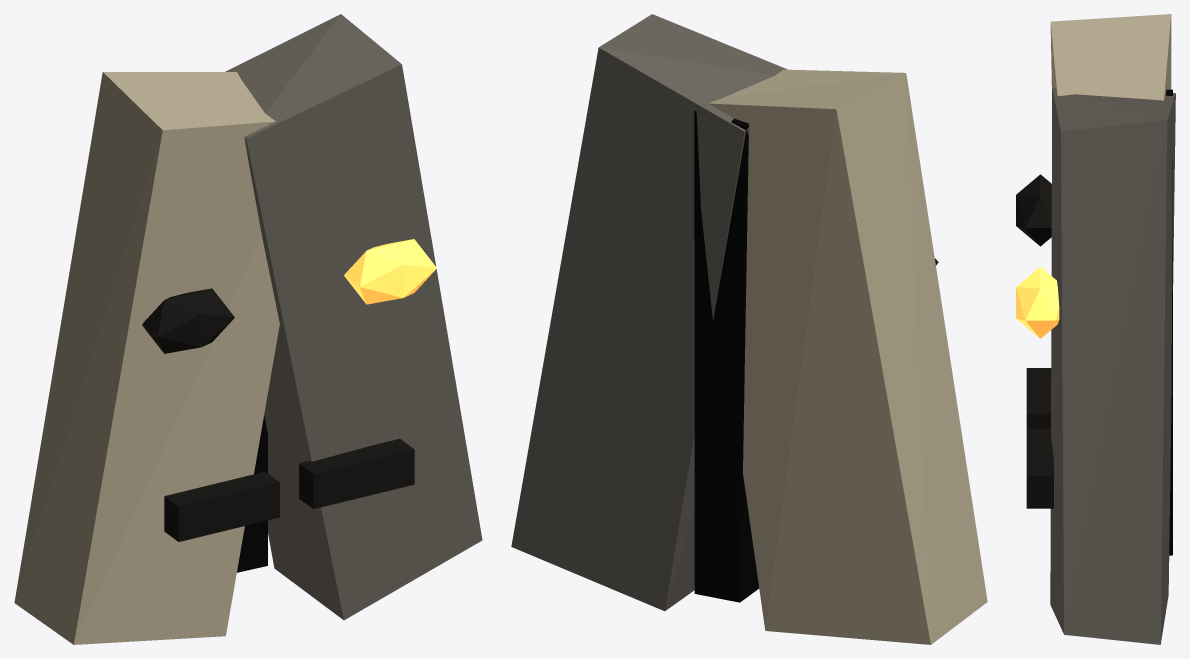
Rendered from stone-wanderer-split-shrine-face-v1.glb.
3 renders of one model, left to right at view 1: azimuth 30°, elevation 25°; view 2: azimuth 150°, elevation 25°; view 3: azimuth 270°, elevation 25°, orthographic. The views are drawn at different scales.
Parts seen in each view (by area): view 1: Part_0, Part_1, Part_5, Part_6, Part_3, Part_4, Part_2; view 2: Part_0, Part_1, Part_2; view 3: Part_1, Part_0, Part_4, Part_6, Part_3, Part_5, Part_2.
Boxes of the visible parts, <box> form: Part_0: <box>14,72,279,644</box>; Part_1: <box>225,14,482,620</box>; Part_5: <box>164,471,279,541</box>; Part_6: <box>299,438,414,509</box>; Part_3: <box>142,288,234,353</box>; Part_4: <box>344,239,436,304</box>; Part_2: <box>237,415,267,572</box>; Part_0: <box>708,69,987,644</box>; Part_1: <box>511,14,787,611</box>; Part_2: <box>694,111,759,602</box>; Part_1: <box>1050,87,1175,644</box>; Part_0: <box>1050,14,1171,100</box>; Part_4: <box>1016,267,1059,338</box>; Part_6: <box>1026,429,1053,508</box>; Part_3: <box>1016,174,1051,246</box>; Part_5: <box>1026,368,1051,429</box>; Part_2: <box>1165,89,1172,555</box>.
Size of the model in its own units: 0.4945 by 0.6197 by 0.1755.
5 materials, 1 textured.
